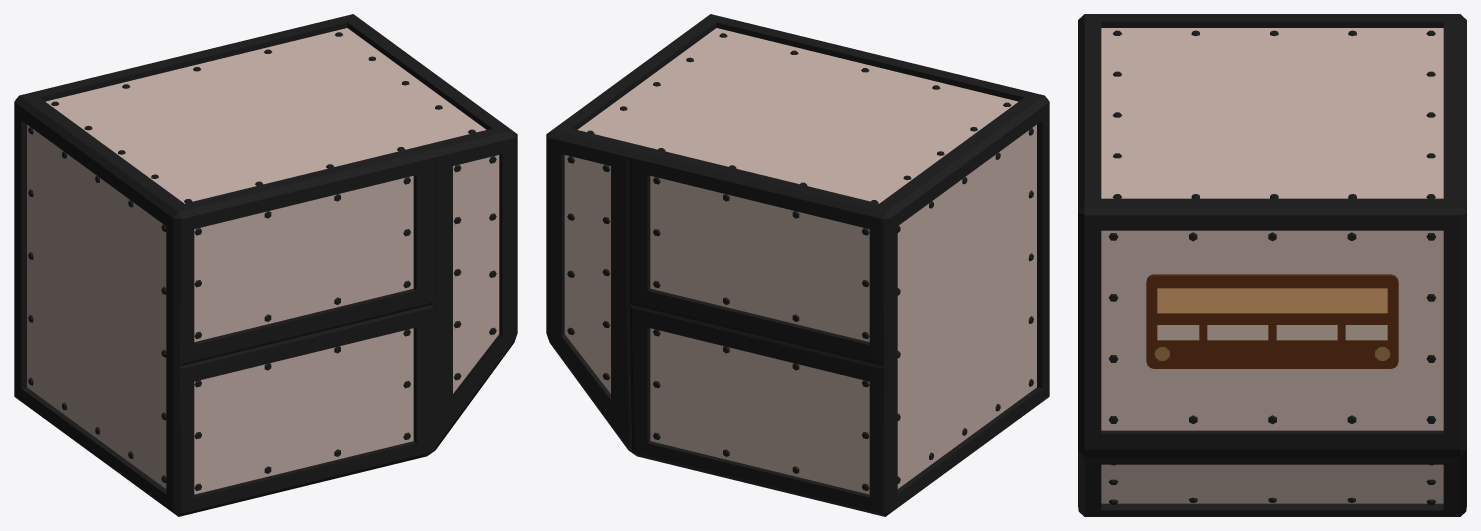
Rendered from 05_Container5_AIRPORT_0.obj.
3 views of the same model, side by side, from view 1: azimuth 30°, elevation 25°; view 2: azimuth 150°, elevation 25°; view 3: azimuth 270°, elevation 25° (orthographic). The views are drawn at different scales.
Parts seen in each view (by area): view 1: 05.Container5_AIRPORT_0; view 2: 05.Container5_AIRPORT_0; view 3: 05.Container5_AIRPORT_0.
Part boxes in pixels (x1,y1,x2,y2): 05.Container5_AIRPORT_0: (14,14,517,516); 05.Container5_AIRPORT_0: (546,14,1049,516); 05.Container5_AIRPORT_0: (1078,14,1466,516).
Bounding box in the file's own units: 4.48 × 3.79 × 3.72.
Materials: 1 (1 with a texture image).
